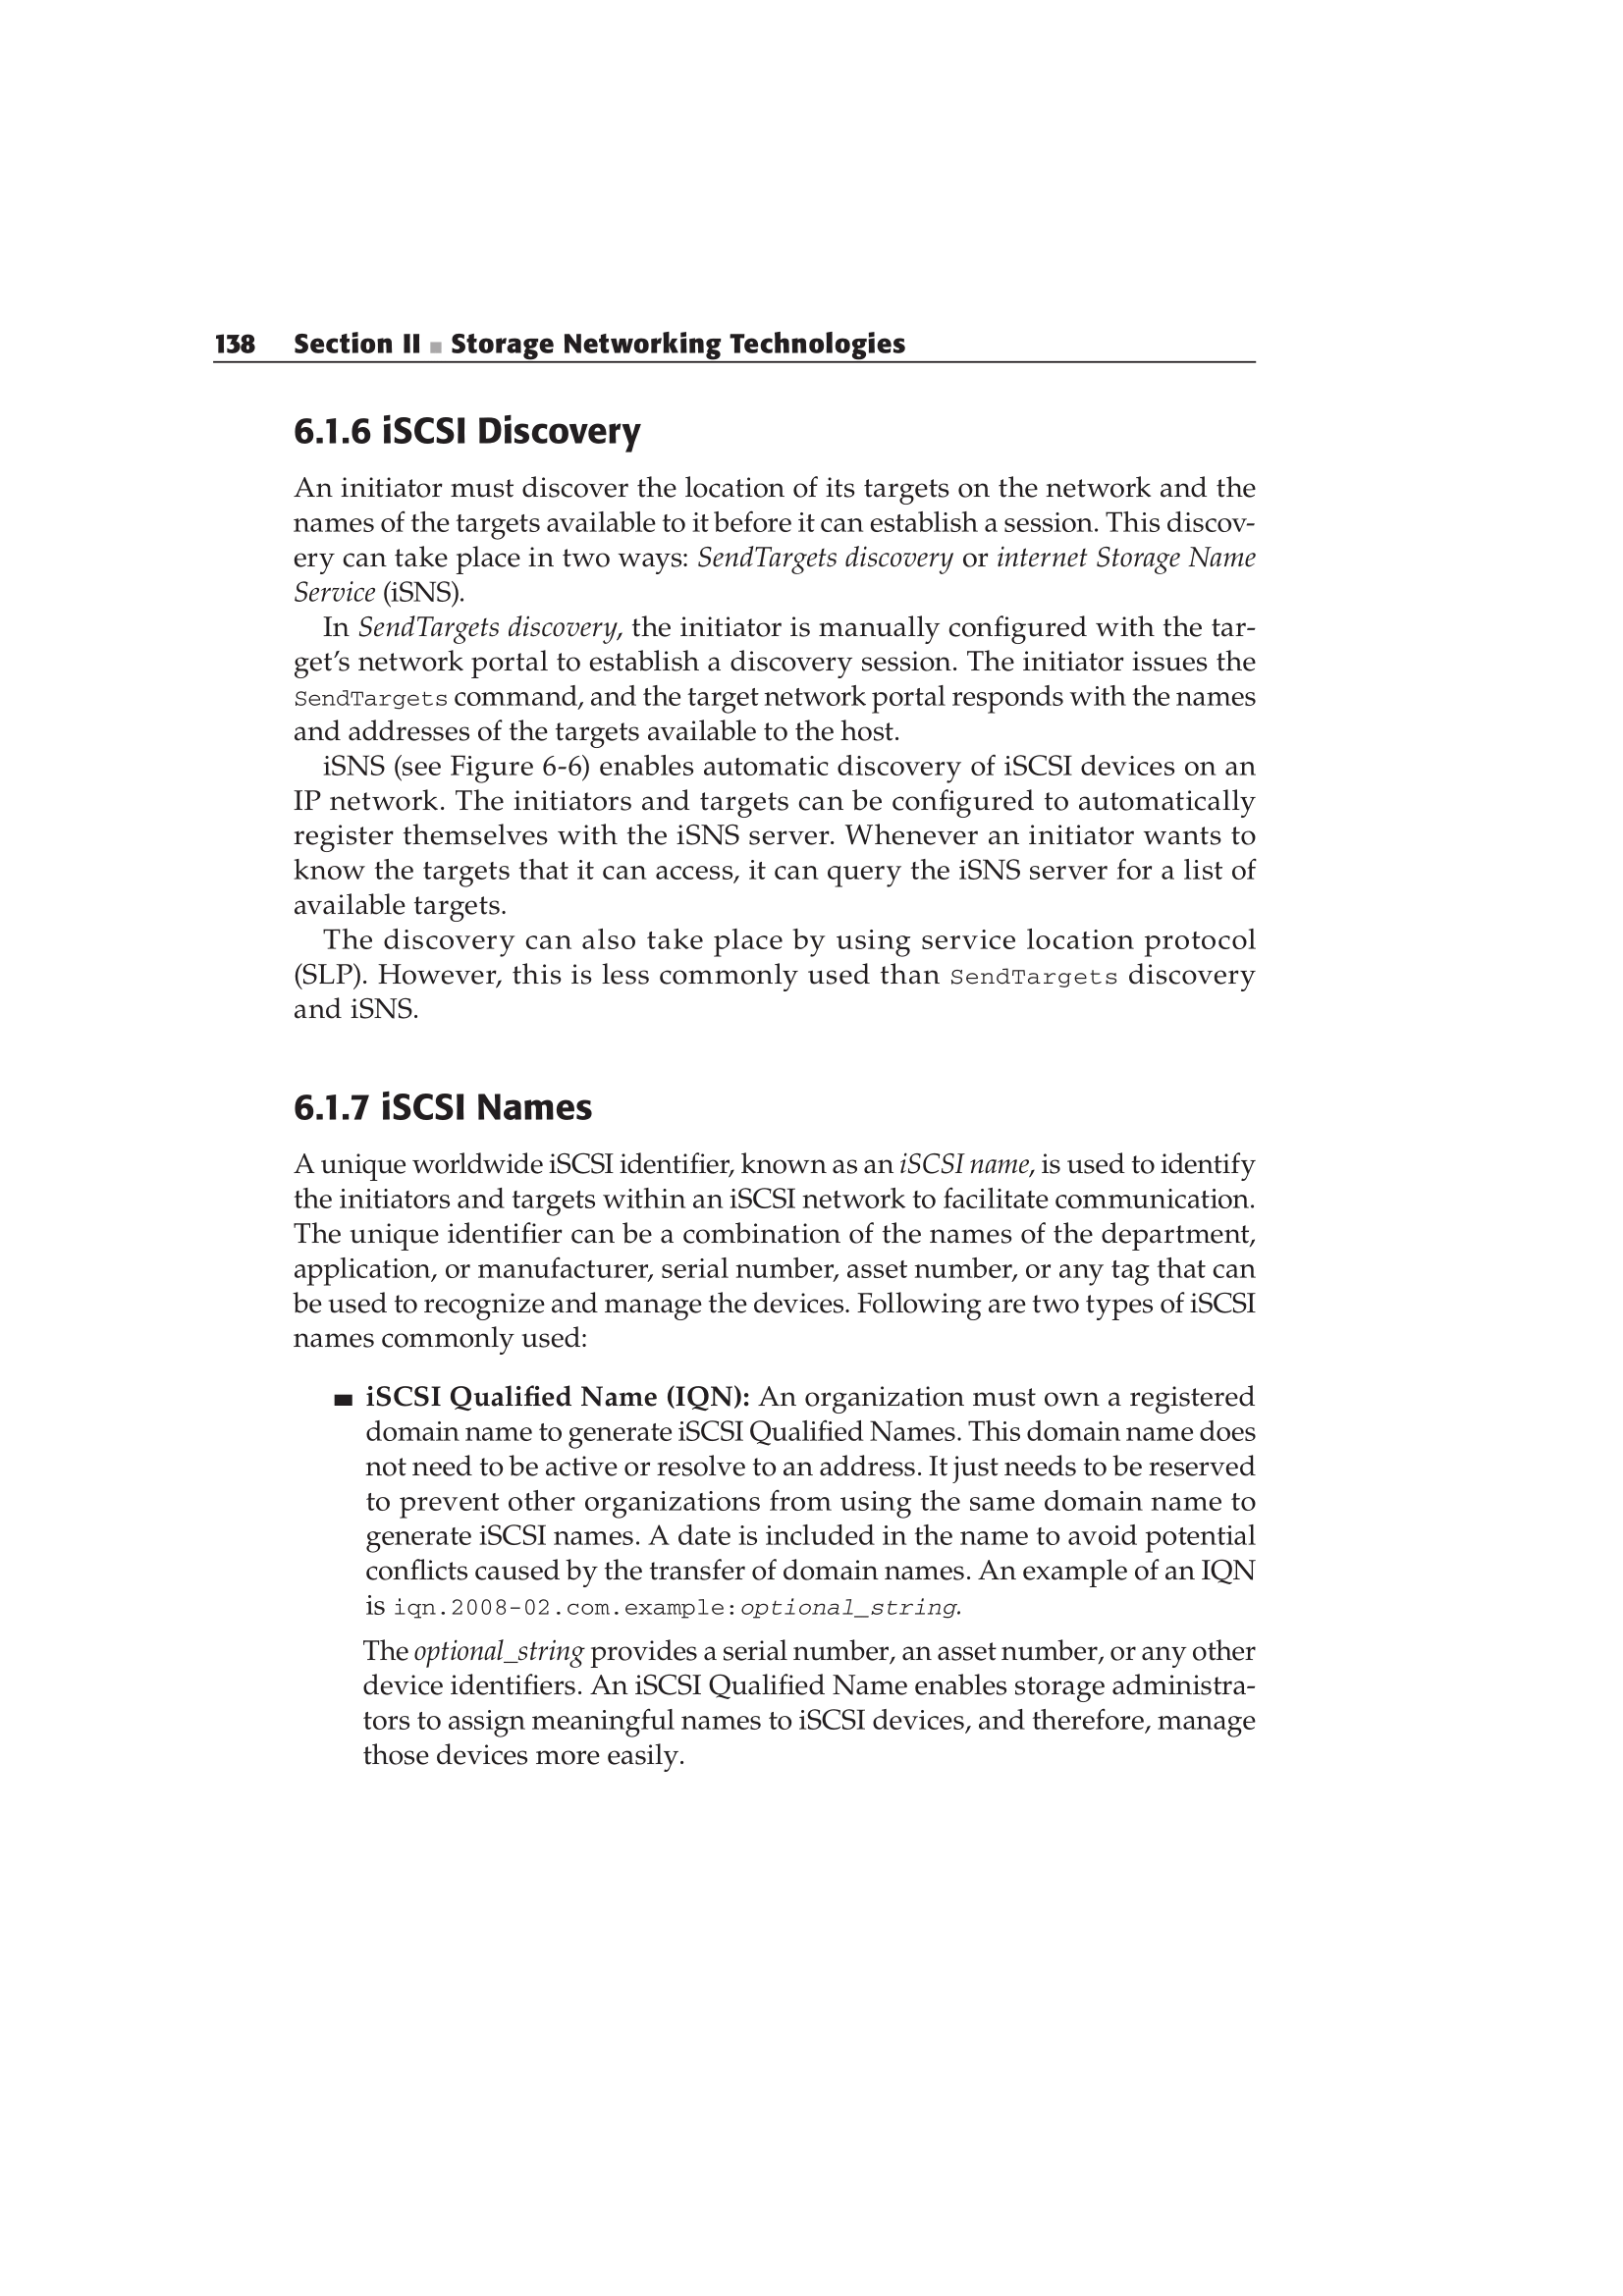Paragraph: (267, 1366, 1368, 1806), (232, 1144, 1319, 1359), (149, 746, 1333, 930), (197, 611, 1361, 746), (204, 472, 1326, 607), (193, 930, 1302, 1041), (153, 307, 1084, 369), (197, 383, 790, 465), (260, 1073, 703, 1137)
